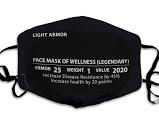cloth_mask: (1, 14, 159, 112)
